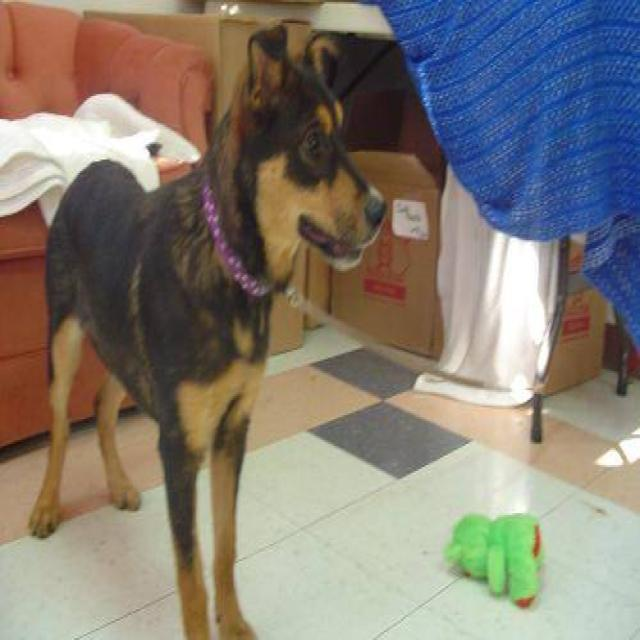dog: (26, 19, 387, 638)
